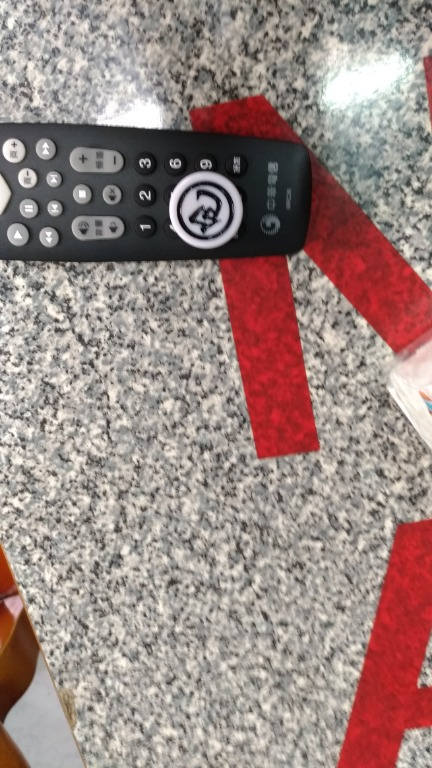b-cannon: (157, 161, 265, 262)
